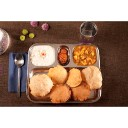poori: (81, 65, 104, 91), (31, 75, 54, 96), (49, 84, 73, 103), (48, 65, 68, 84), (71, 83, 91, 101), (67, 67, 83, 87)
